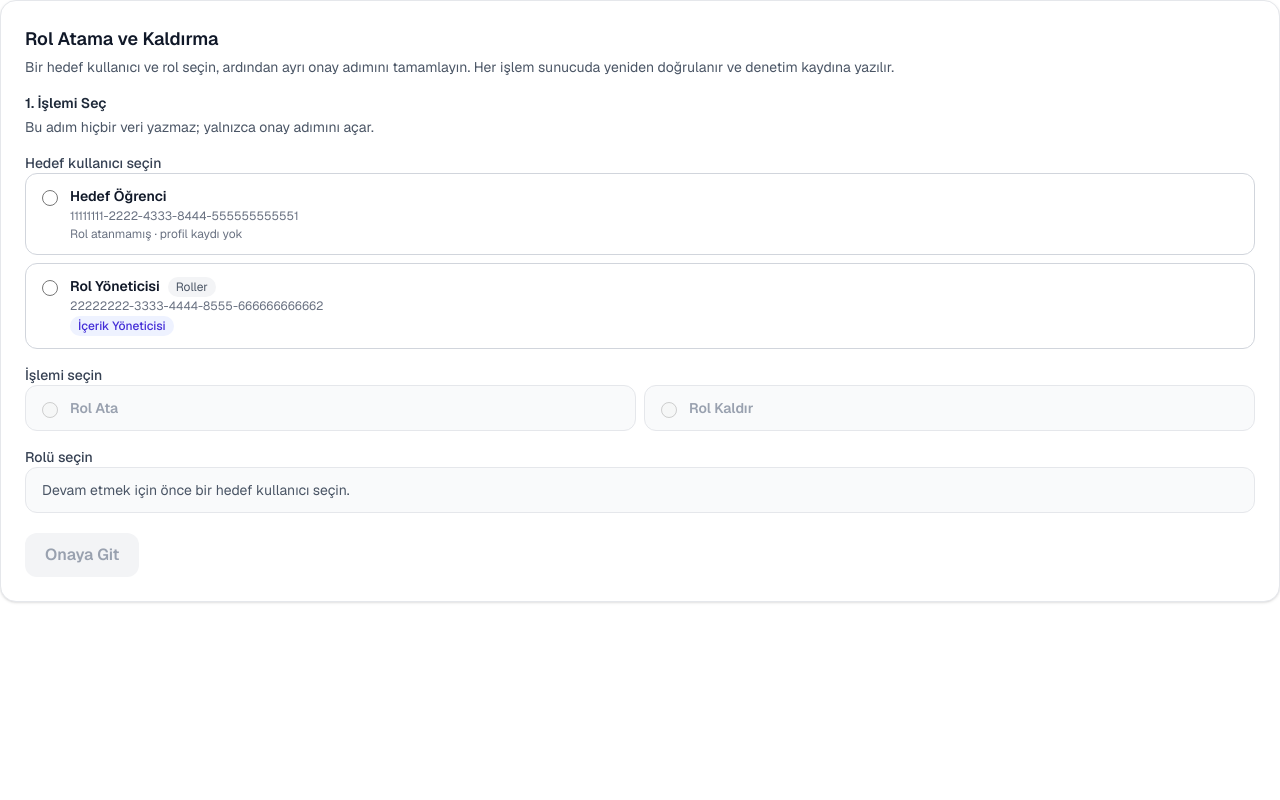
Scenario: kilit kapı: yazmadan önce onay adımı yoktur › Onaya Git onay adımını açar ama YAZMAZ
The image size is (1280, 800).
Click the radio button labelled "Hedef Öğrenci" at (50, 198), box [42,190,58,206]
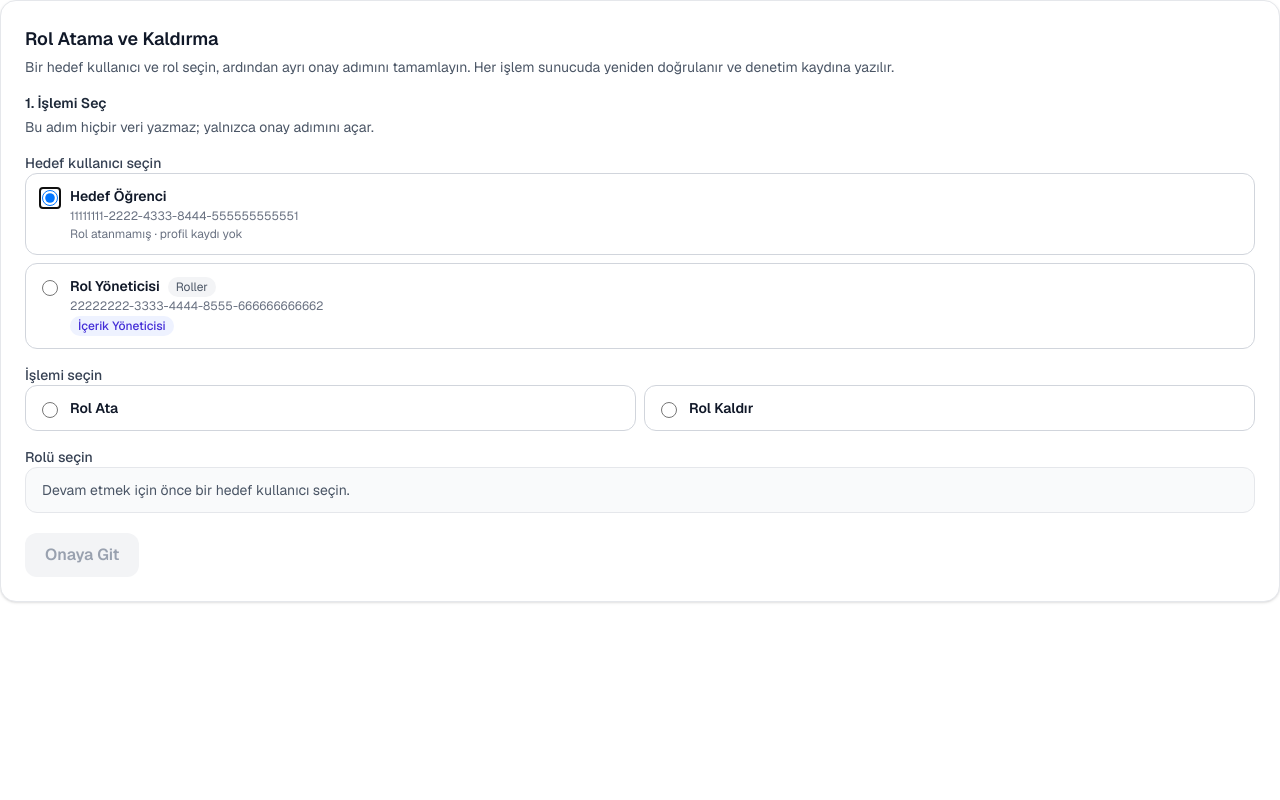
Click the radio button labelled "Rol Ata" at (50, 410), box [42,402,58,418]
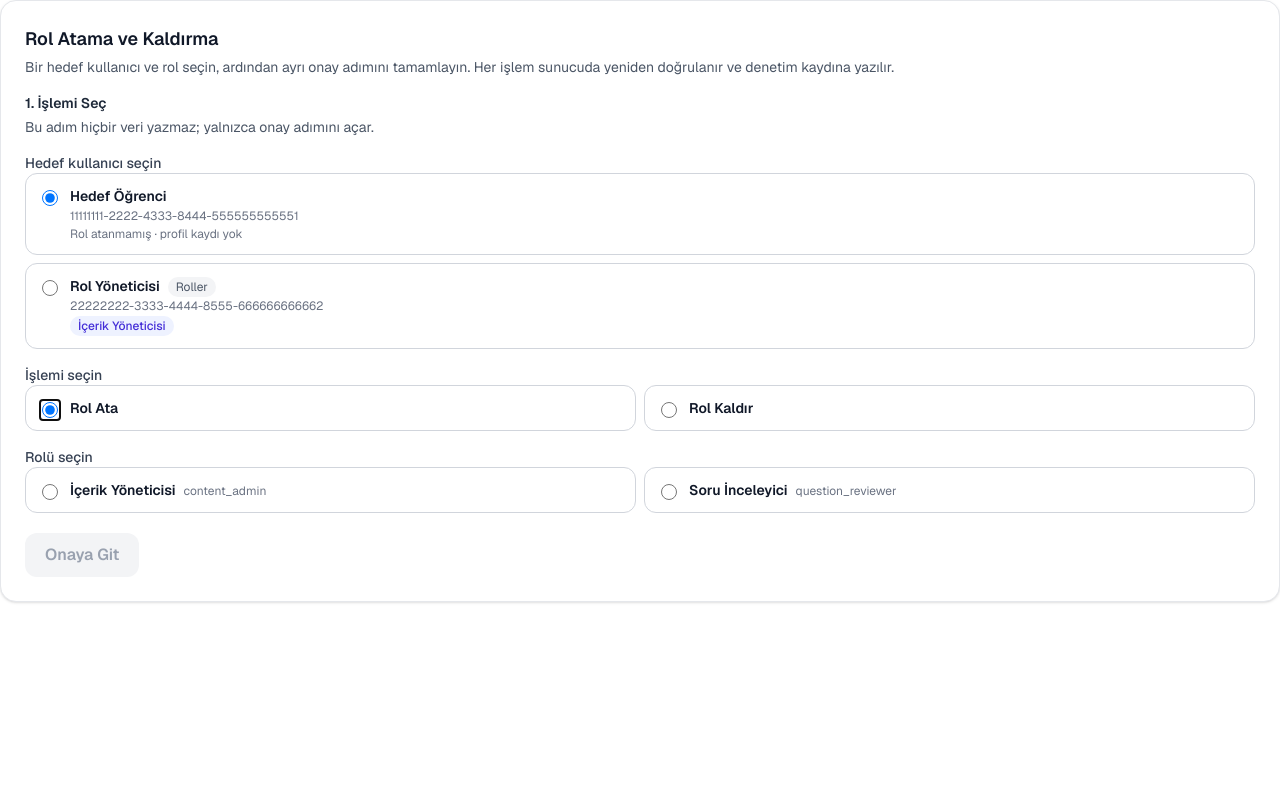
Click the radio button labelled "question_reviewer" at (669, 492), box [661,484,677,500]
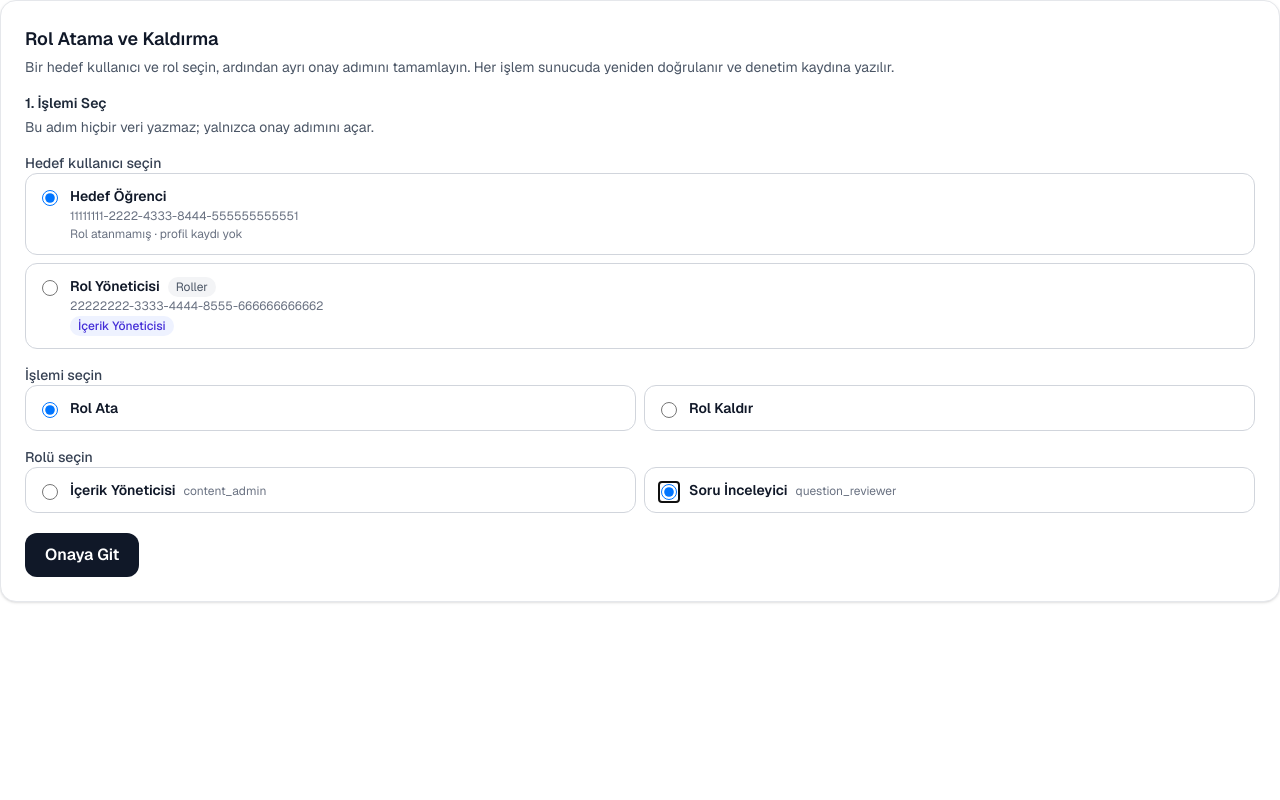
Click the button "Onaya Git" at (82, 555), box [25,533,139,577]
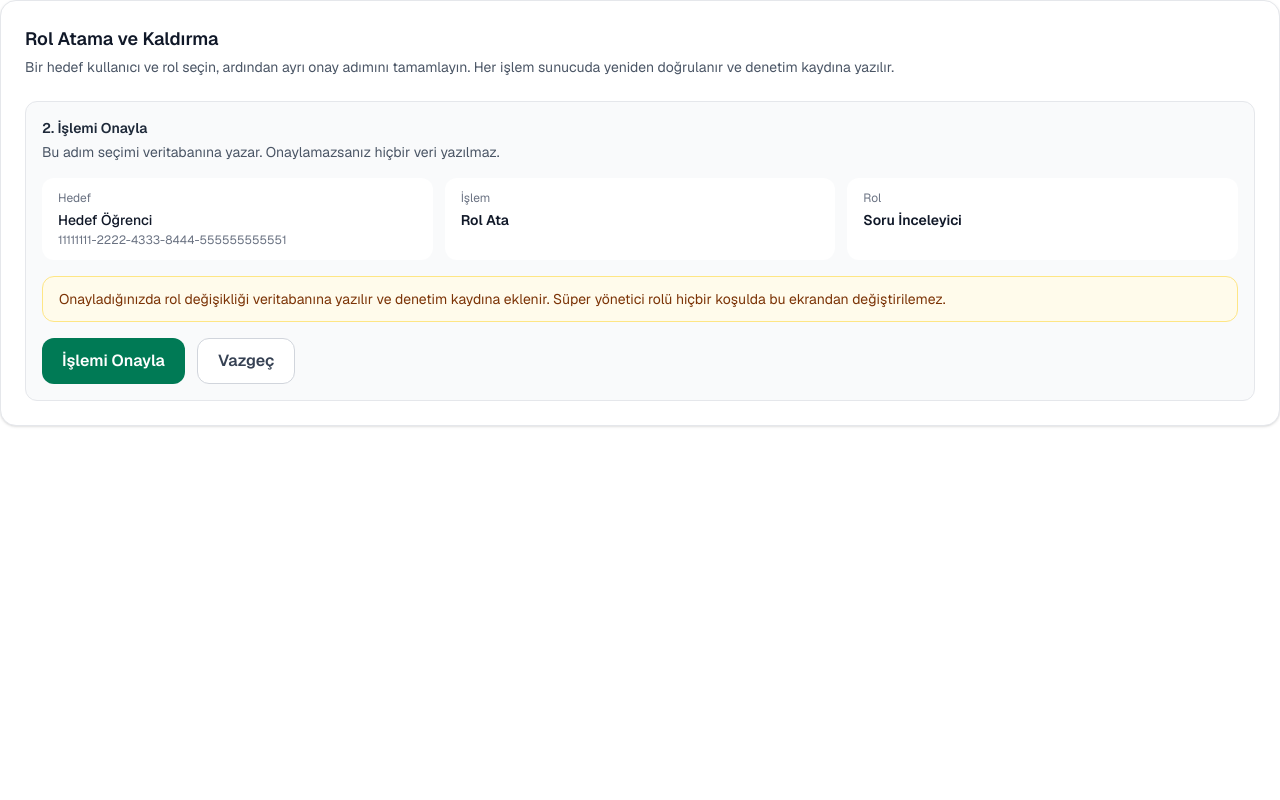
Result: the heading "2. İşlemi Onayla" is shown at [42,119,148,137]
Result: the button "İşlemi Onayla" is shown at [42,338,185,384]
